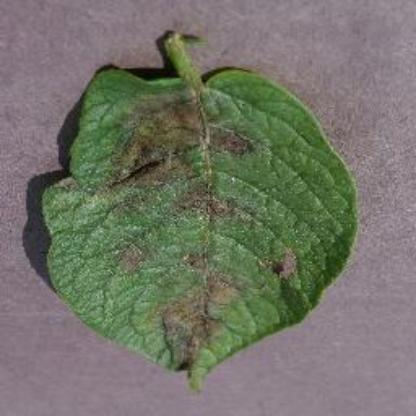Late-Blight: (38, 26, 368, 390)
